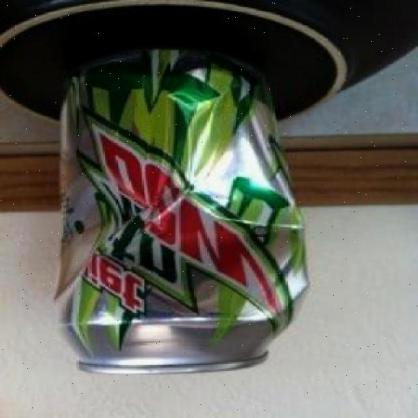can: (56, 48, 309, 373)
